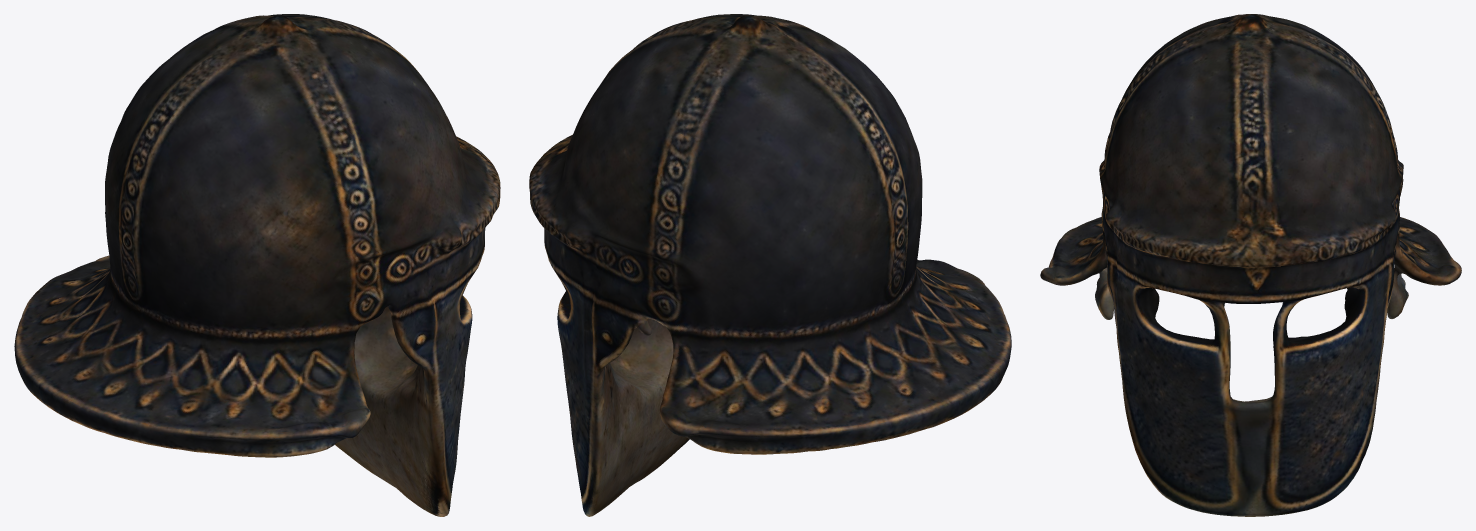
The model's file is helmet.glb.
The picture shows the model from 3 angles, left to right: view 1: azimuth 30°, elevation 25°; view 2: azimuth 150°, elevation 25°; view 3: azimuth 270°, elevation 25°; orthographic projection. The views are drawn at different scales.
Visible parts, largest first — view 1: high_poly_0; view 2: high_poly_0; view 3: high_poly_0.
Part boxes in pixels (x1,y1,x2,y2): high_poly_0: (14, 14, 500, 516); high_poly_0: (529, 14, 1011, 516); high_poly_0: (1040, 14, 1461, 516).
Size of the model in its own units: 0.9007 by 1 by 0.8652.
1 material, 1 textured.
